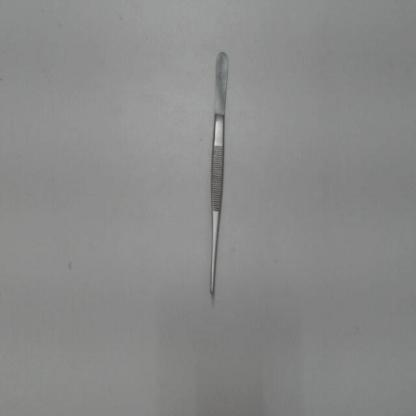Gillies Toothed Dissector: (206, 36, 231, 298)
